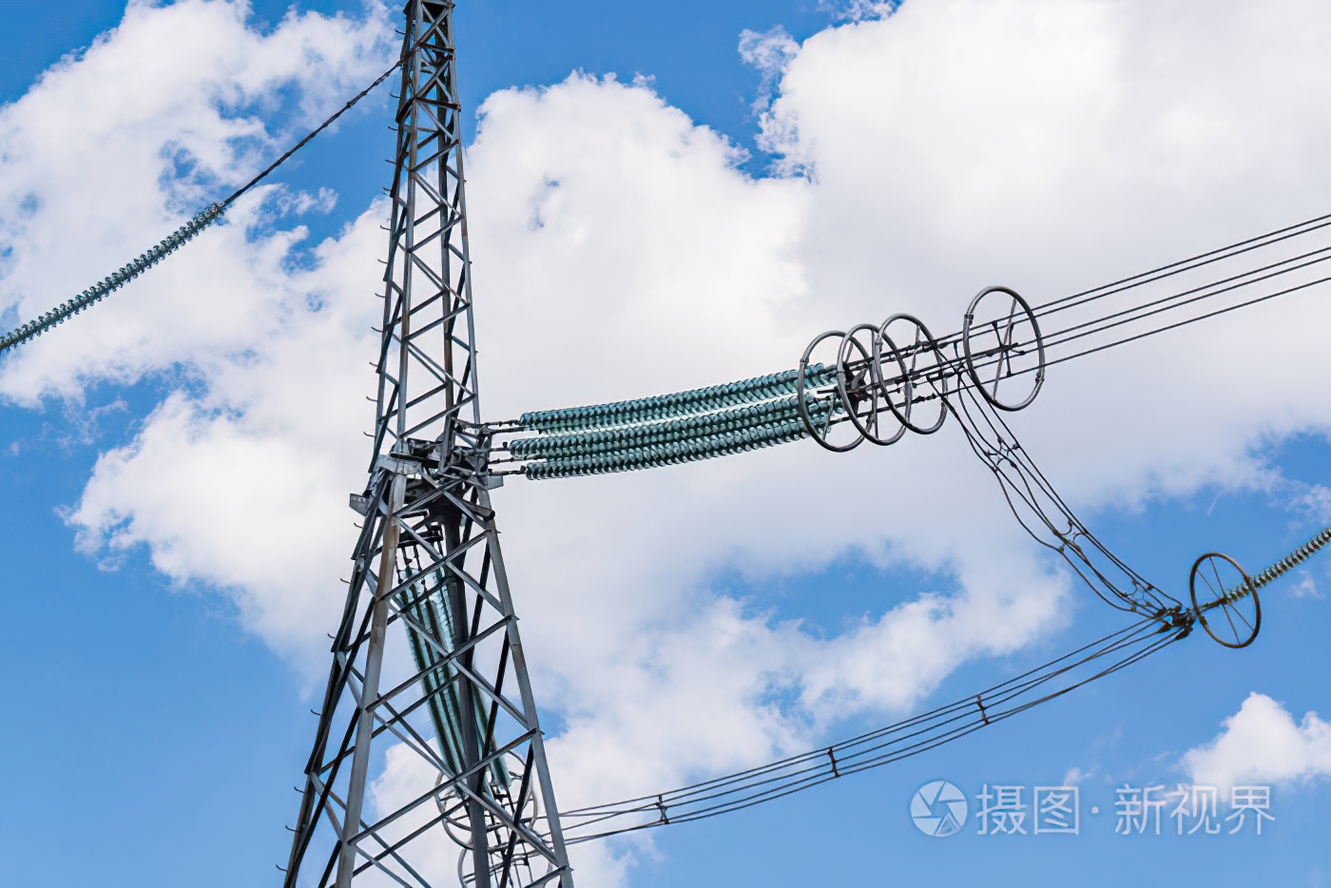insulator: (510, 364, 838, 484), (1, 200, 226, 366), (1223, 531, 1331, 604)
